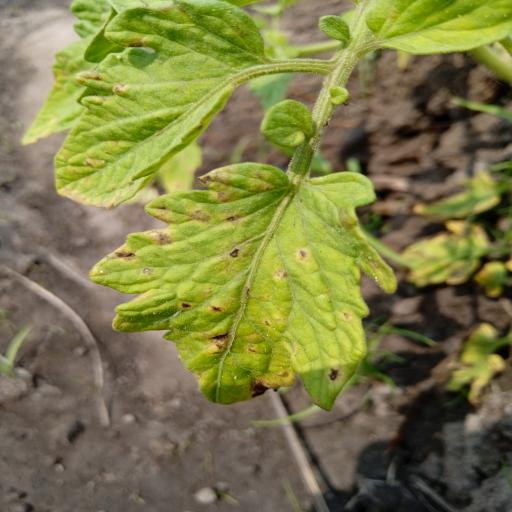Tomato_Brown_Spots: (89, 163, 403, 413), (55, 0, 275, 213)
